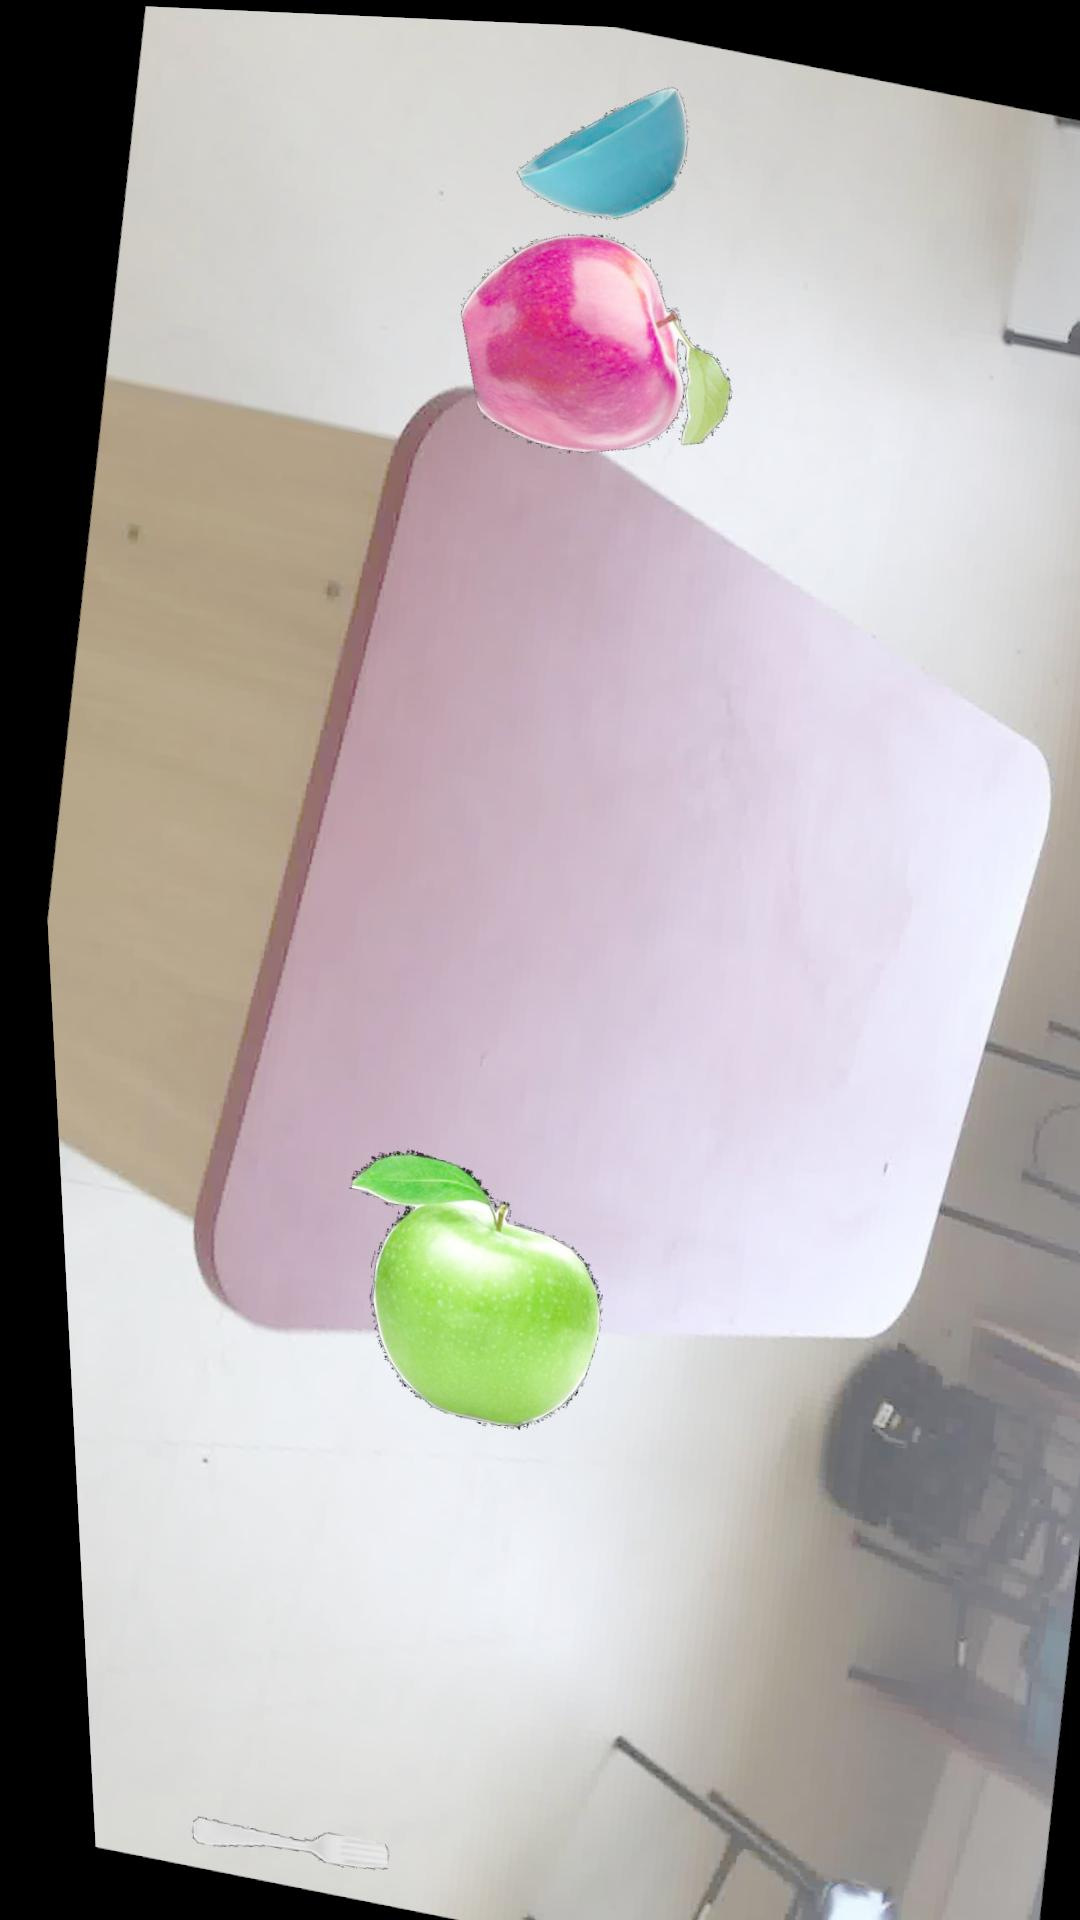apple: (456, 225, 725, 446)
bowl: (513, 79, 686, 211)
fork: (170, 1813, 367, 1865)
green apple: (334, 1145, 587, 1424)
